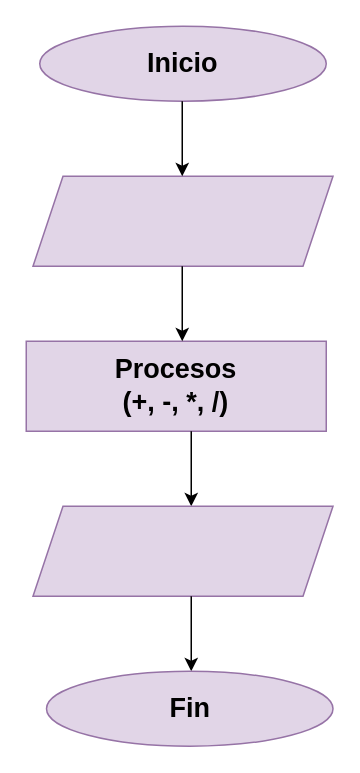
This 360x773 diagram has some shape labels left out. The box of each missing label's shape, as (x1, y1, x2, y2) in pixels:
Leer datos: (32, 175, 333, 266)
Mostrar resultados: (32, 505, 333, 596)
